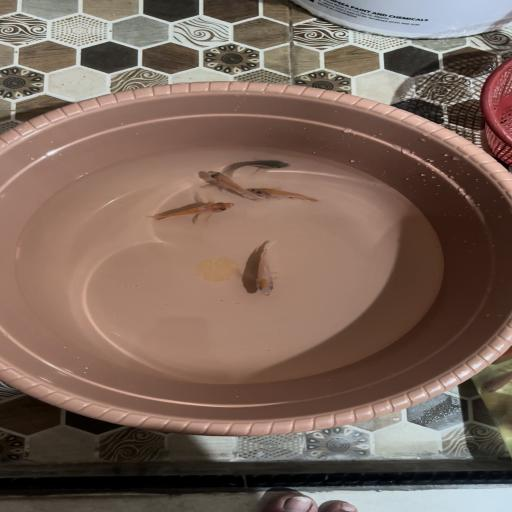nila: (242, 238, 285, 299), (148, 199, 238, 227), (200, 169, 260, 202), (244, 185, 321, 205), (222, 156, 293, 176)
